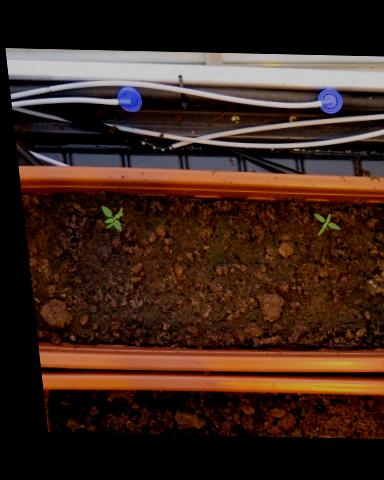weed: (93, 201, 125, 231), (308, 207, 339, 236)
